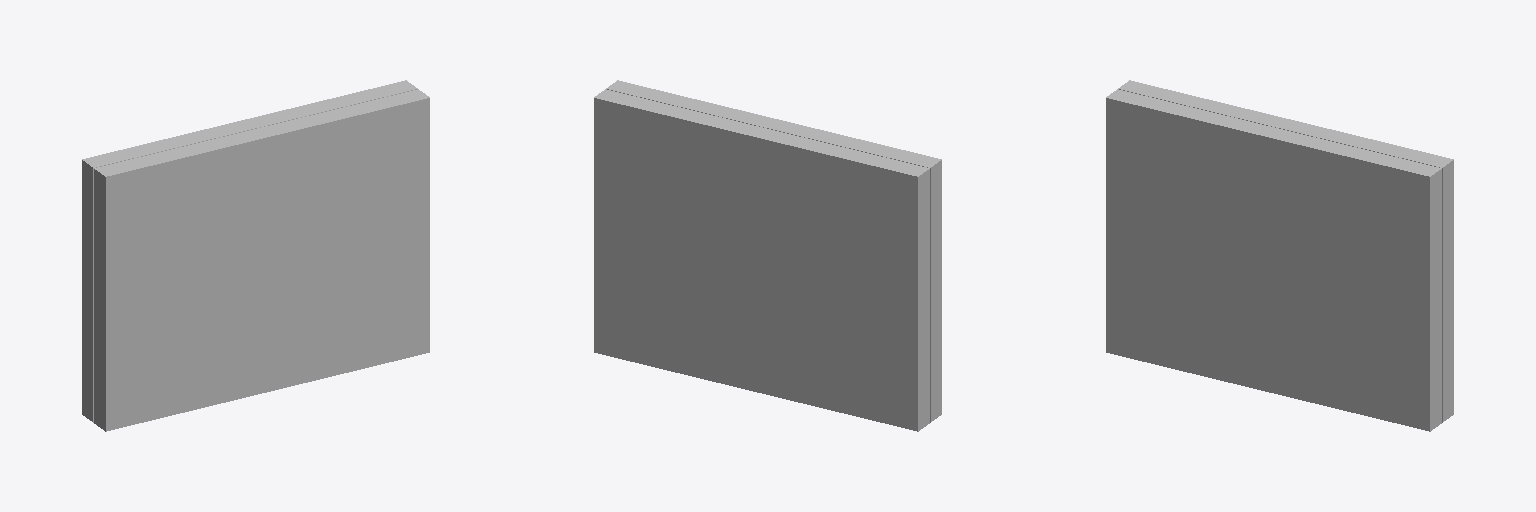
The model's file is TestChunk.obj.
3 views of the same model, side by side, from view 1: azimuth 30°, elevation 25°; view 2: azimuth 150°, elevation 25°; view 3: azimuth 330°, elevation 25° (orthographic).
Visible parts, largest first — view 1: Plane, Plane.001_Plane.002; view 2: Plane.001_Plane.002, Plane; view 3: Plane, Plane.001_Plane.002.
Boxes of the visible parts, <box> form: Plane: <box>94,89,429,431</box>; Plane.001_Plane.002: <box>82,80,417,422</box>; Plane.001_Plane.002: <box>594,89,929,431</box>; Plane: <box>606,80,941,422</box>; Plane: <box>1106,89,1441,431</box>; Plane.001_Plane.002: <box>1118,80,1453,422</box>.
Size of the model in its own units: 16 by 12 by 2.04.